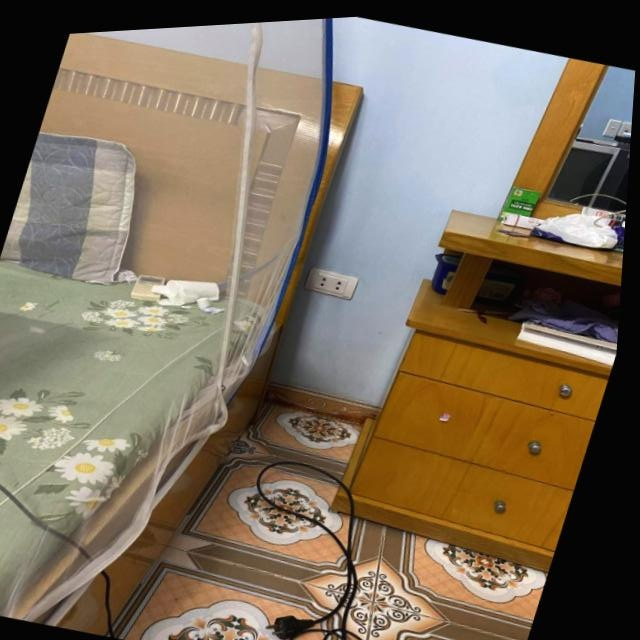outlet: (303, 263, 362, 303)
